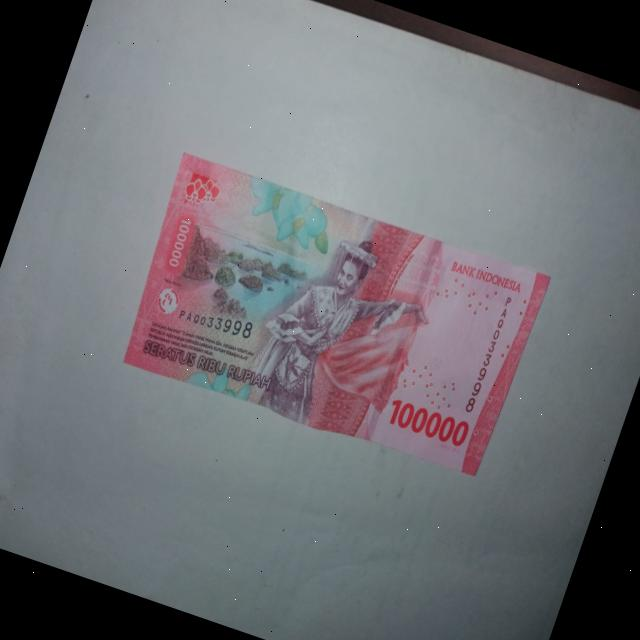100K: (92, 122, 556, 494)
